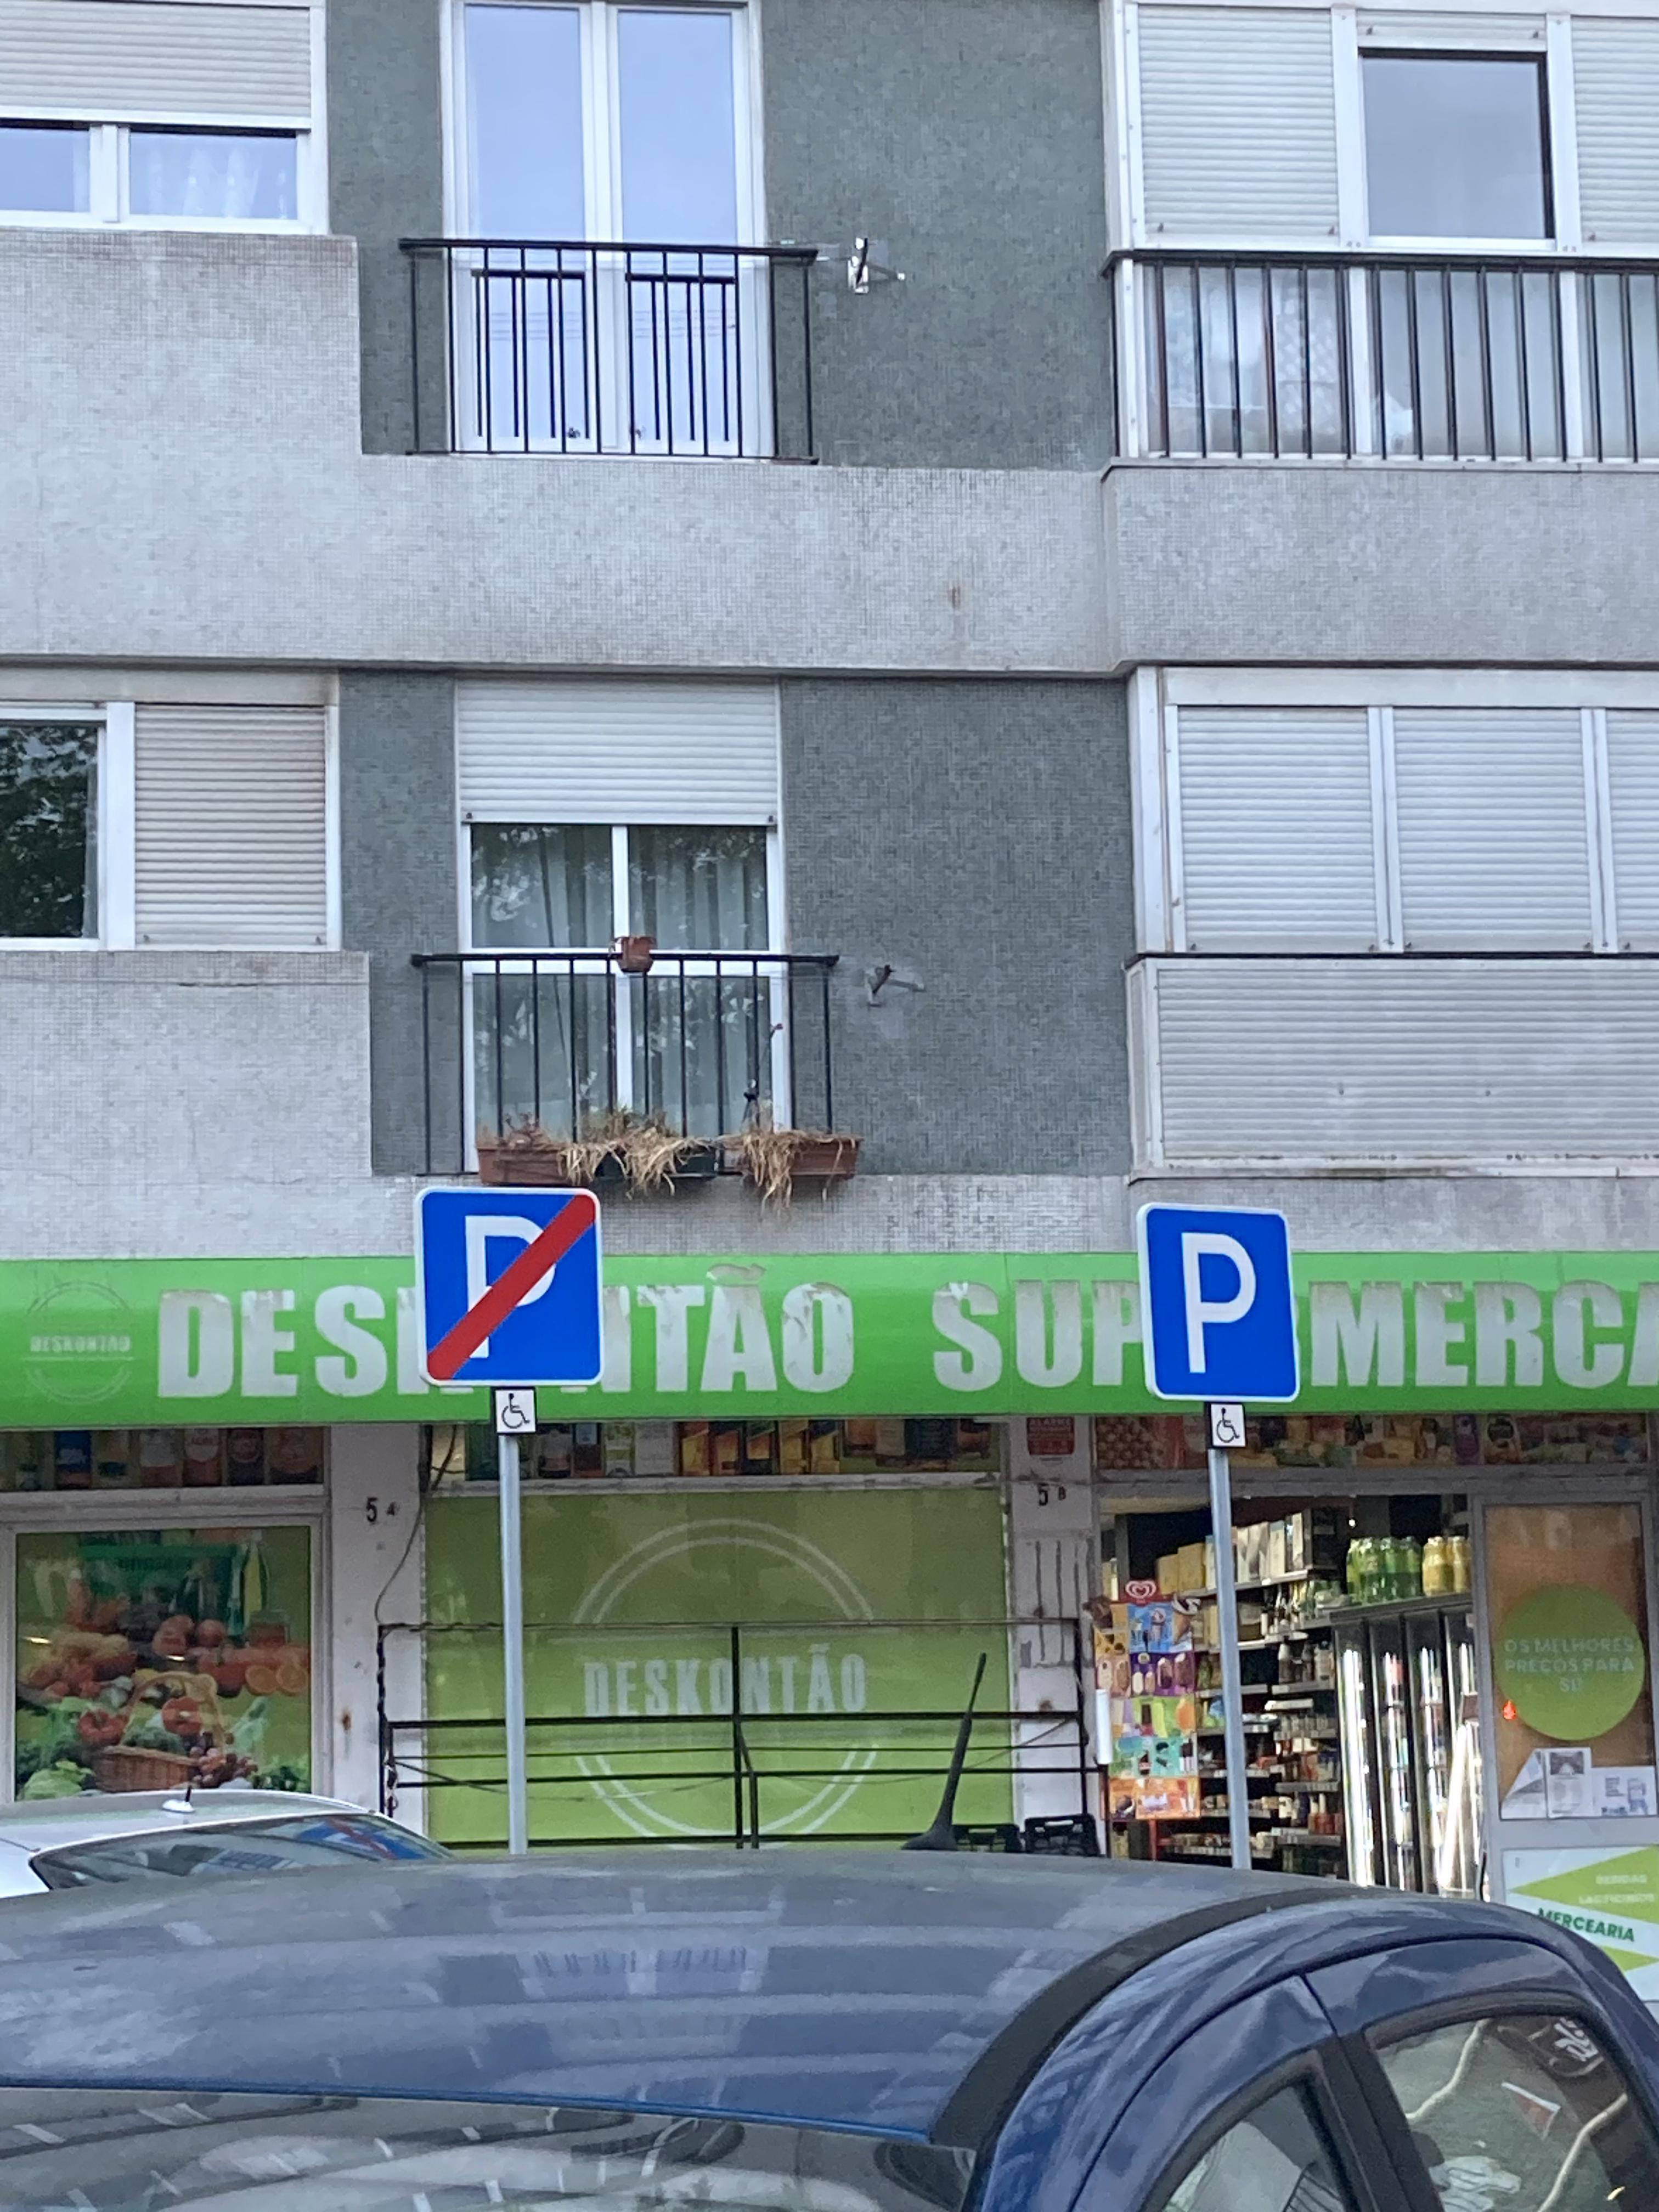zona de estacionamento autorizado: (1131, 1207, 1290, 1388)
zona de estacionamento proibido: (434, 1169, 592, 1388)
